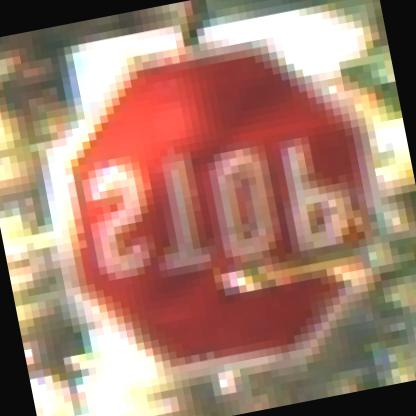stop: (29, 10, 404, 401)
